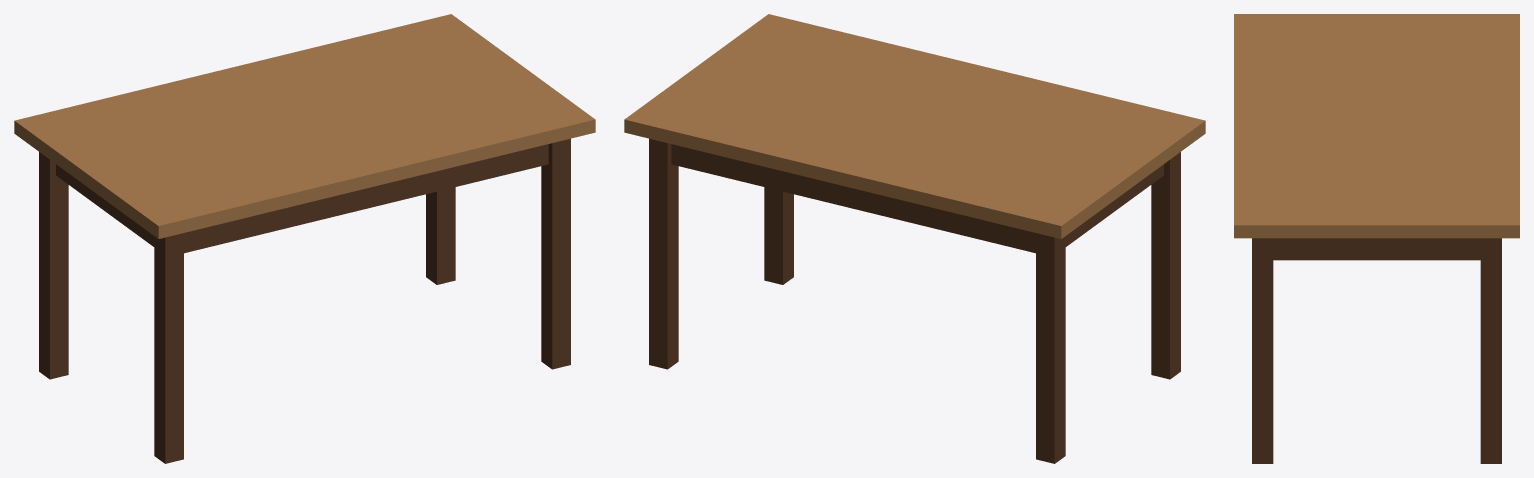
The model's file is table.glb.
3 renders of one model, left to right at view 1: azimuth 30°, elevation 25°; view 2: azimuth 150°, elevation 25°; view 3: azimuth 270°, elevation 25°, orthographic.
Parts seen in each view (by area): view 1: table; view 2: table; view 3: table.
Boxes of the visible parts, bbox=[...] form: table: bbox=[14, 14, 595, 463]; table: bbox=[624, 14, 1205, 463]; table: bbox=[1234, 14, 1519, 463].
Bounding box in the file's own units: 1.4 × 0.76 × 0.8.
Materials: 1 (1 with a texture image).
